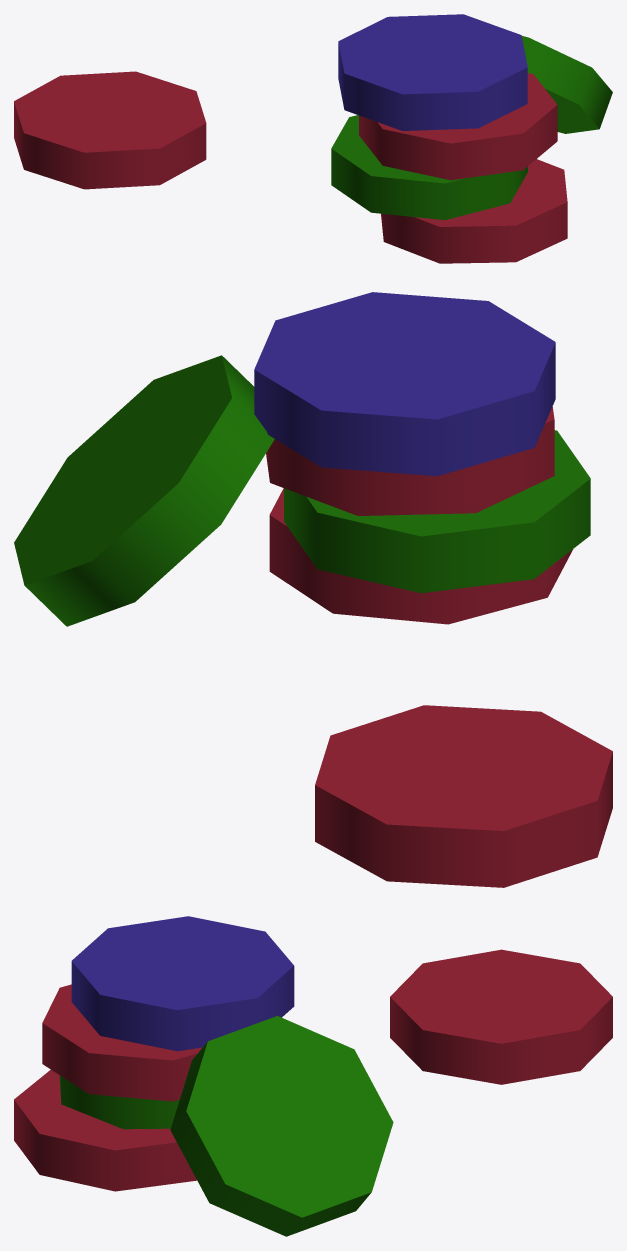
Rendered from moeda_poquer_pilha_quatro.fbx.
The picture shows the model from 3 angles, top to bottom: view 1: azimuth 30°, elevation 25°; view 2: azimuth 150°, elevation 25°; view 3: azimuth 270°, elevation 25°; orthographic projection. The views are drawn at different scales.
Visible parts, largest first — view 1: moeda_poquer_pilha_quatro; view 2: moeda_poquer_pilha_quatro; view 3: moeda_poquer_pilha_quatro.
Part boxes in pixels (bbox=[...]): moeda_poquer_pilha_quatro: bbox=[14, 14, 612, 263]; moeda_poquer_pilha_quatro: bbox=[14, 292, 612, 887]; moeda_poquer_pilha_quatro: bbox=[14, 916, 612, 1236].
Size of the model in its own units: 14.75 by 4.75 by 14.67.
